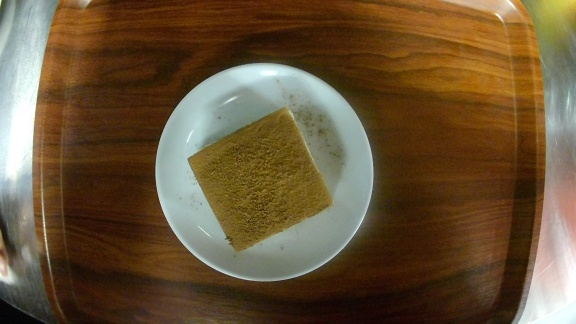tiramisu: (154, 62, 375, 279)
